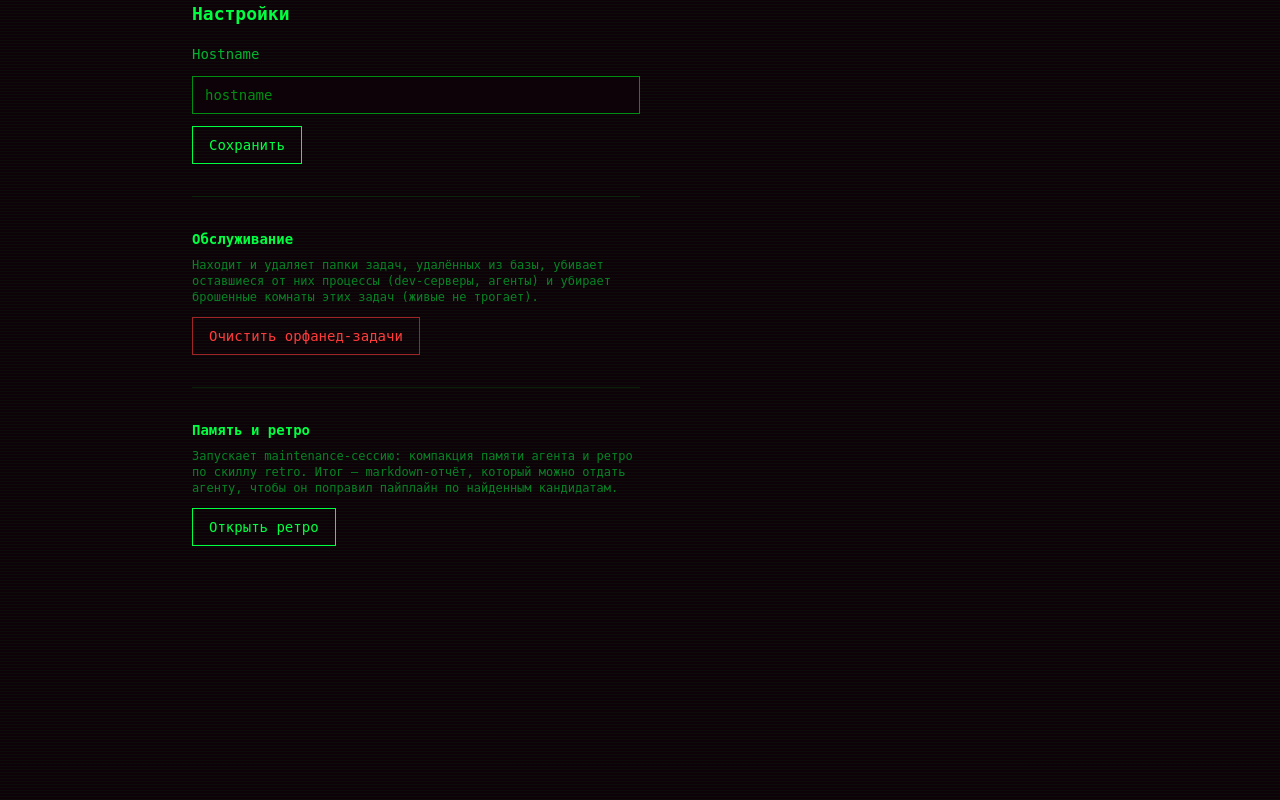
Test: Settings — память и ретро › история: клик по прогону показывает markdown-отчёт
Step 1. Click the button with test id "settings-retro-open" → (264,527), box [192,508,336,546]
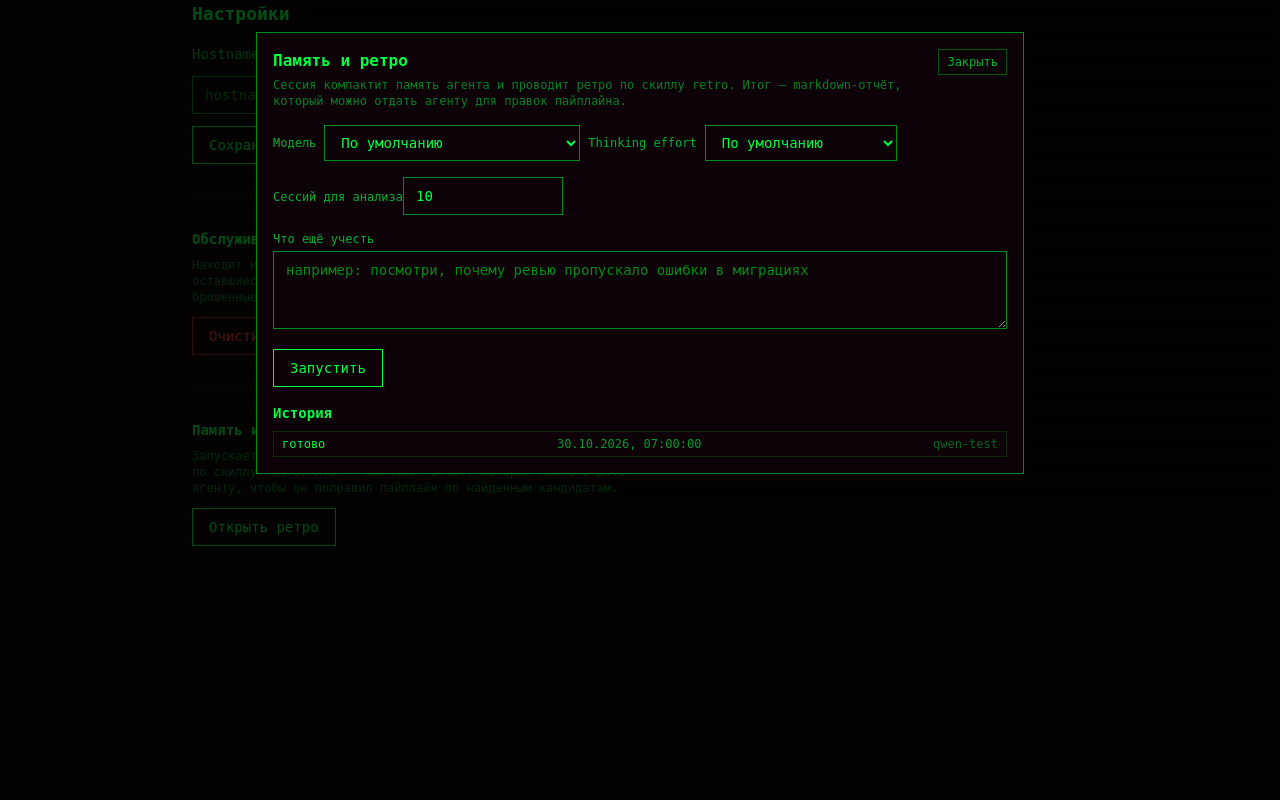
Step 2. Click the button "готово 30.10.2026, 07:00:00 qwen-test" → (640,444), box [273,431,1007,457]
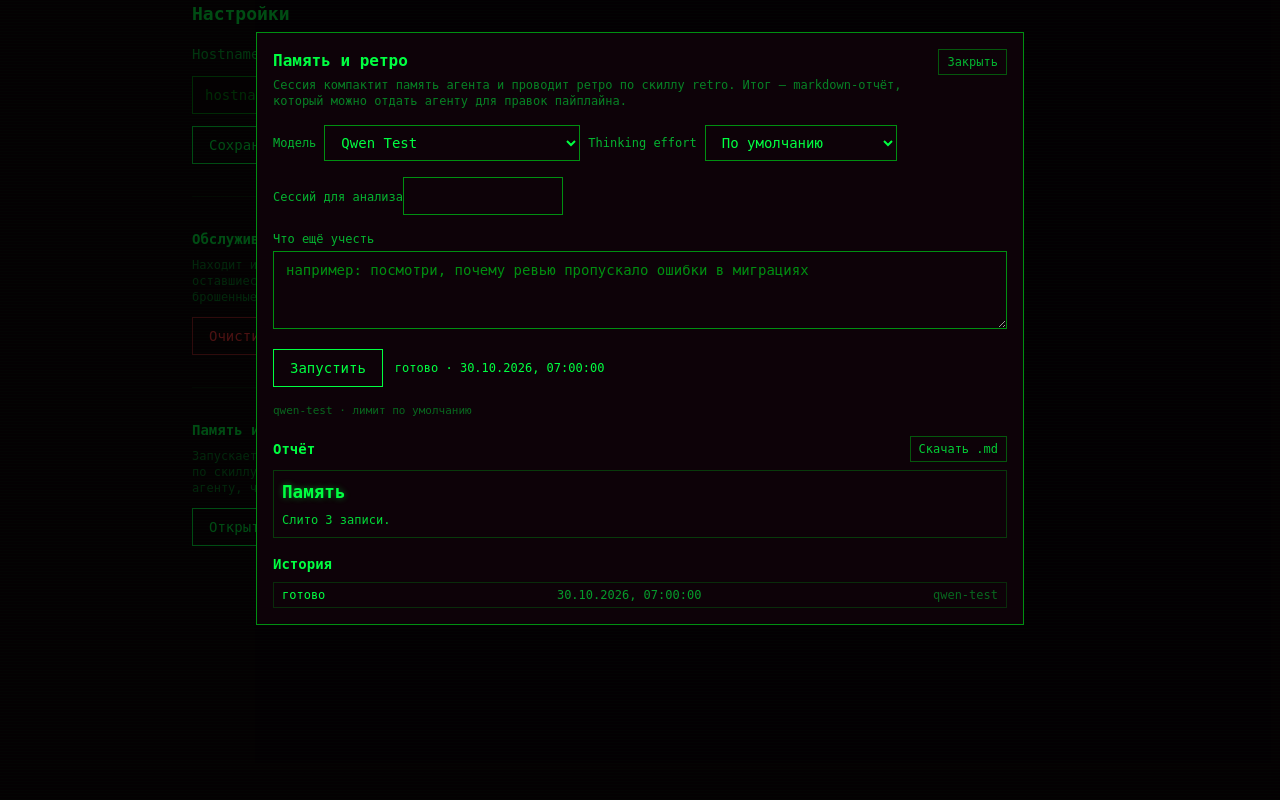
Now the element with test id "retro-report" is shown, box [273,436,1007,538]
Now the text "Слито 3 записи." is shown, box [282,513,390,527]
Now the button with test id "retro-download" is shown, box [910,436,1007,462]
